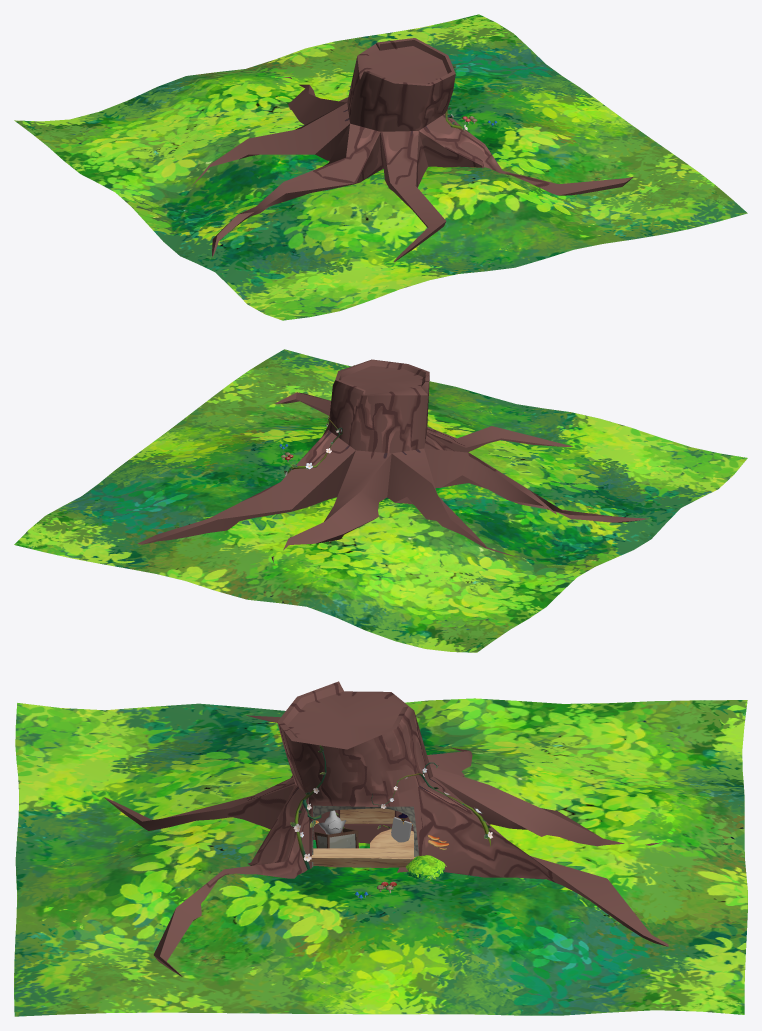
The model's file is biddingsceneblender.fbx.
The picture shows the model from 3 angles, top to bottom: view 1: azimuth 30°, elevation 25°; view 2: azimuth 150°, elevation 25°; view 3: azimuth 270°, elevation 25°; orthographic projection. The views are drawn at different scales.
Parts seen in each view (by area): view 1: BiddingLandTerrain, BiddingTree1; view 2: BiddingLandTerrain, BiddingTree1; view 3: BiddingLandTerrain, BiddingTree1, BiddingTable, BiddingVinesDeco_1, BiddingSignV2_1, BiddingArchExterior_to_Interior1, BiddingStand, Bidding2D_Bush.001.
Boxes of the visible parts, box(x1,y1,x2,y2) form: BiddingLandTerrain: box(14, 14, 747, 320); BiddingTree1: box(192, 38, 632, 261); BiddingLandTerrain: box(14, 349, 747, 652); BiddingTree1: box(137, 359, 648, 562); BiddingLandTerrain: box(14, 698, 747, 1016); BiddingTree1: box(104, 681, 668, 976); BiddingTable: box(309, 829, 415, 867); BiddingVinesDeco_1: box(290, 745, 492, 875); BiddingSignV2_1: box(338, 808, 396, 825); BiddingArchExterior_to_Interior1: box(312, 805, 418, 867); BiddingStand: box(314, 827, 358, 848); Bidding2D_Bush.001: box(405, 855, 446, 879).
Size of the model in its own units: 1243 by 315 by 1242.
